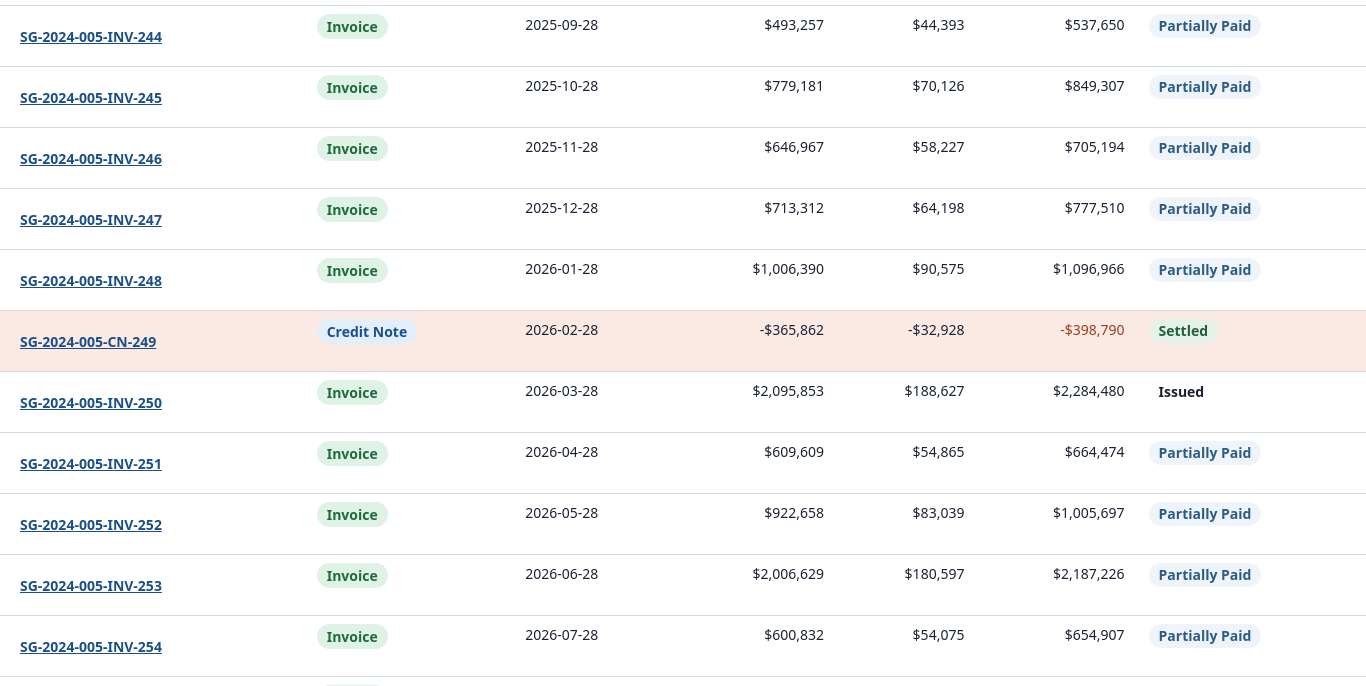
Test: BillingArView (TASK-009) › shows credit applications referencing the credit note (BR-AR-003)
The width and height of the screenshot is (1366, 686).
(page scrolled)
What coordinates should you click on to do the following:
click the button "SG-2024-005-CN-249"
I would click on:
 (88, 341)
Its box is [12,319,164,363].
(page scrolled)
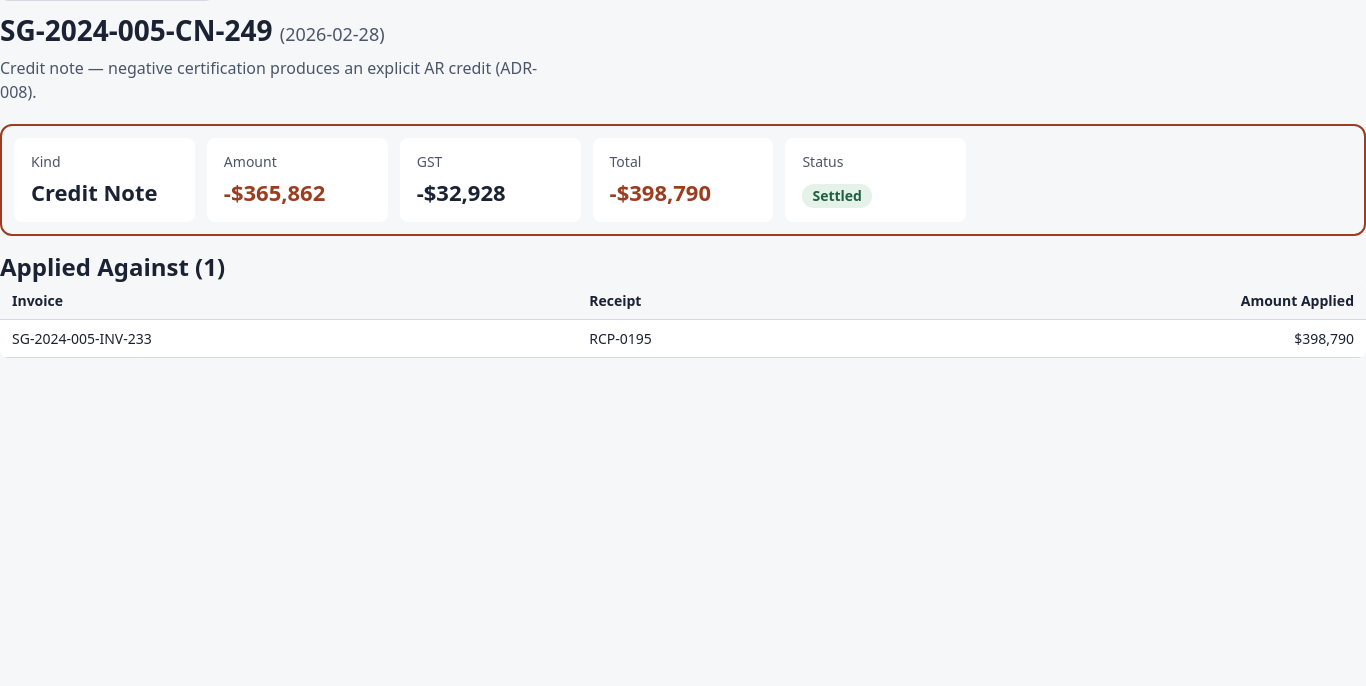
Expected: the heading "Applied Against (1)" is shown, [0,250,225,283]
